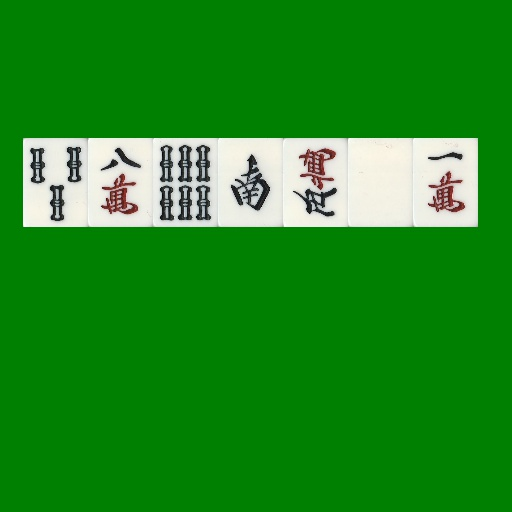1m: (413, 138, 478, 227)
3s: (23, 138, 88, 227)
5m: (283, 138, 348, 227)
6s: (153, 138, 218, 227)
8m: (88, 138, 153, 227)
south: (218, 138, 283, 227)
white: (348, 138, 413, 227)
